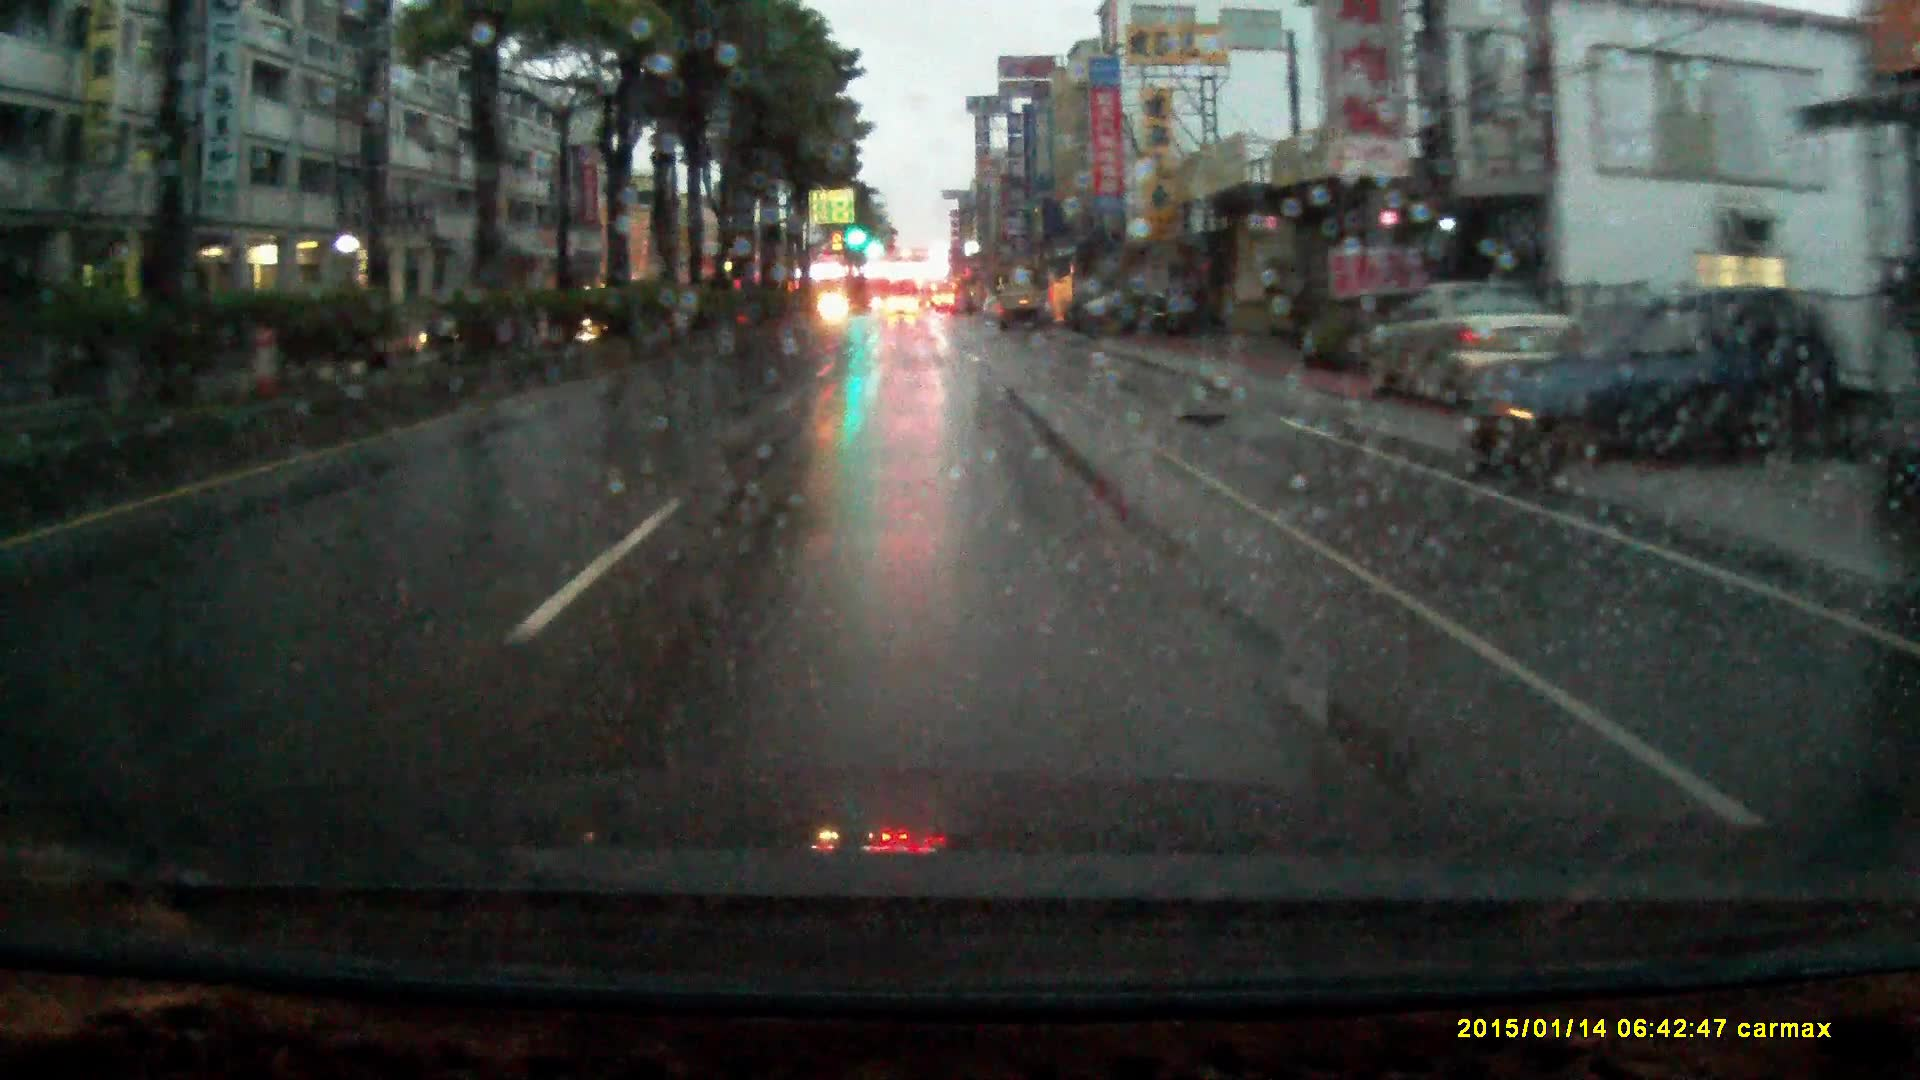vehicle: (1469, 287, 1859, 477), (1364, 284, 1578, 401), (1065, 289, 1225, 338), (996, 285, 1046, 334), (886, 295, 919, 319)
